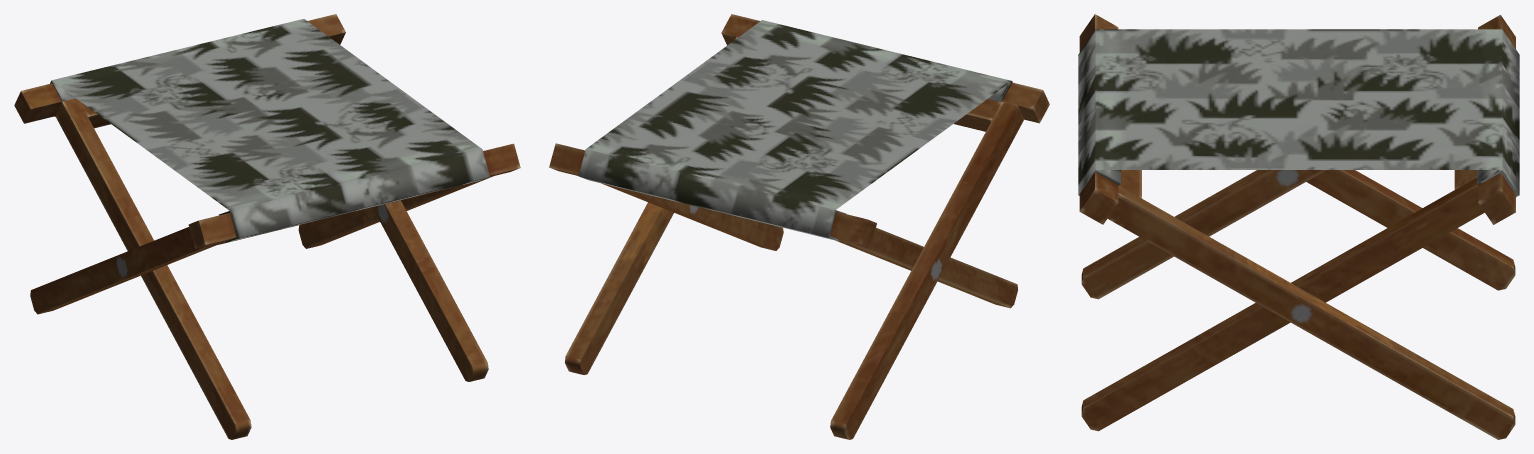
Rendered from pi_chair01_dlc1_04_01.gltf.
3 views of the same model, side by side, from view 1: azimuth 30°, elevation 25°; view 2: azimuth 150°, elevation 25°; view 3: azimuth 270°, elevation 25° (orthographic). The views are drawn at different scales.
Parts seen in each view (by area): view 1: pi_chair01_dlc1_04_01_mesh_shape:pi_chair01_dlc1_12_main; view 2: pi_chair01_dlc1_04_01_mesh_shape:pi_chair01_dlc1_12_main; view 3: pi_chair01_dlc1_04_01_mesh_shape:pi_chair01_dlc1_12_main.
Part boxes in pixels (x1,y1,x2,y2): pi_chair01_dlc1_04_01_mesh_shape:pi_chair01_dlc1_12_main: (14,14,520,439); pi_chair01_dlc1_04_01_mesh_shape:pi_chair01_dlc1_12_main: (549,14,1049,439); pi_chair01_dlc1_04_01_mesh_shape:pi_chair01_dlc1_12_main: (1078,14,1519,439).
Size of what is drawn, in the model's own units: 0.4989 by 0.3463 by 0.53.
1 material, 1 textured.
